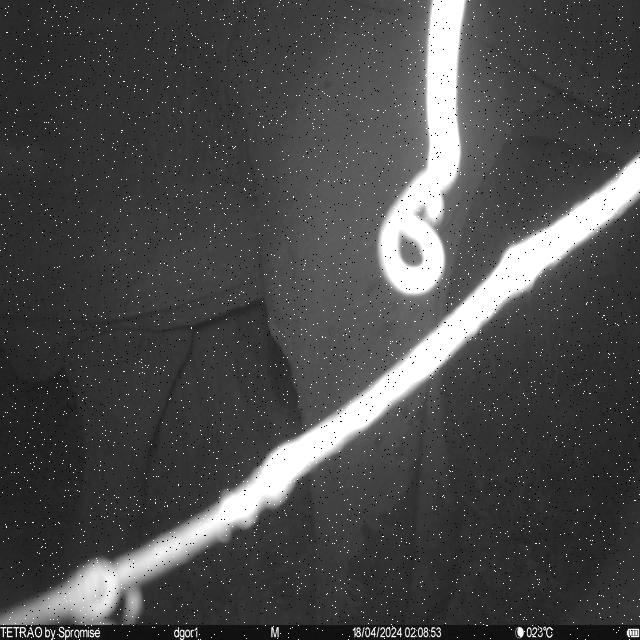ear: (350, 0, 635, 118)
elephant: (0, 0, 639, 620)
